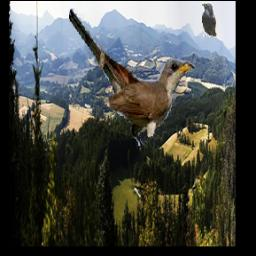Crow: (201, 2, 216, 36)
Cuckoo: (68, 10, 195, 151)
